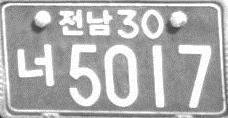0: (103, 43, 139, 109), (140, 9, 164, 39)
1: (150, 42, 167, 111)
3: (116, 8, 140, 40)
5: (67, 42, 102, 107)
7: (176, 43, 212, 110)
너: (15, 42, 55, 87)
전남_O: (59, 8, 113, 37)
